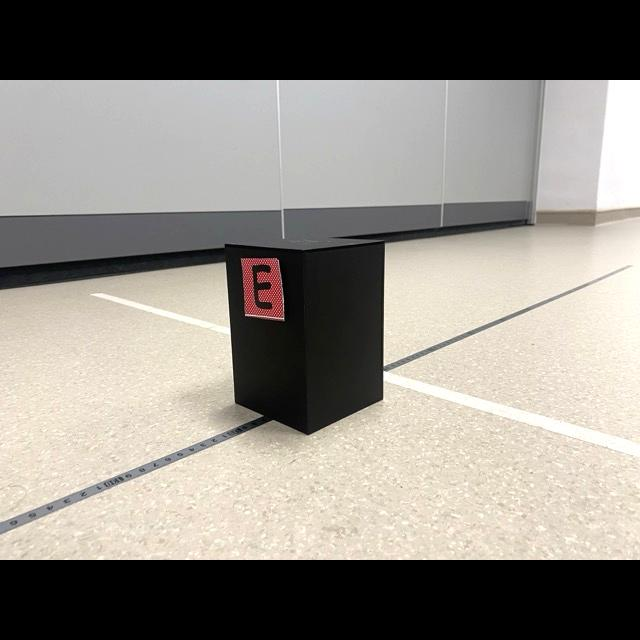E: (251, 265, 271, 309)
